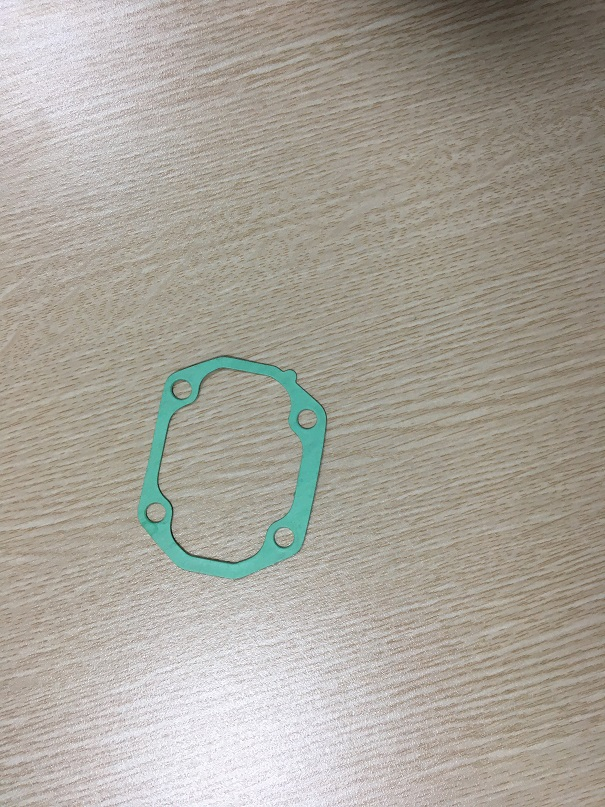type2: (132, 348, 334, 585)
